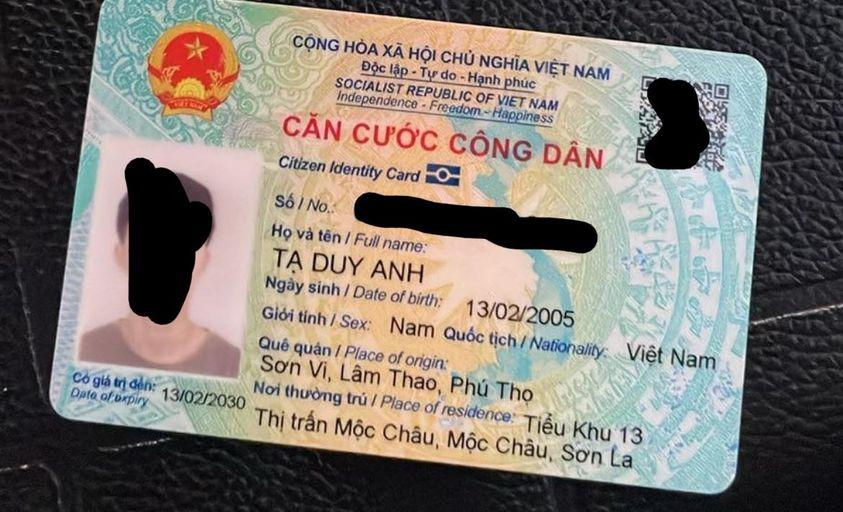bottom_left: (36, 395, 78, 426)
bottom_right: (702, 466, 742, 504)
image_person: (88, 132, 252, 381)
top_left: (78, 0, 130, 15)
top_right: (731, 47, 784, 77)
